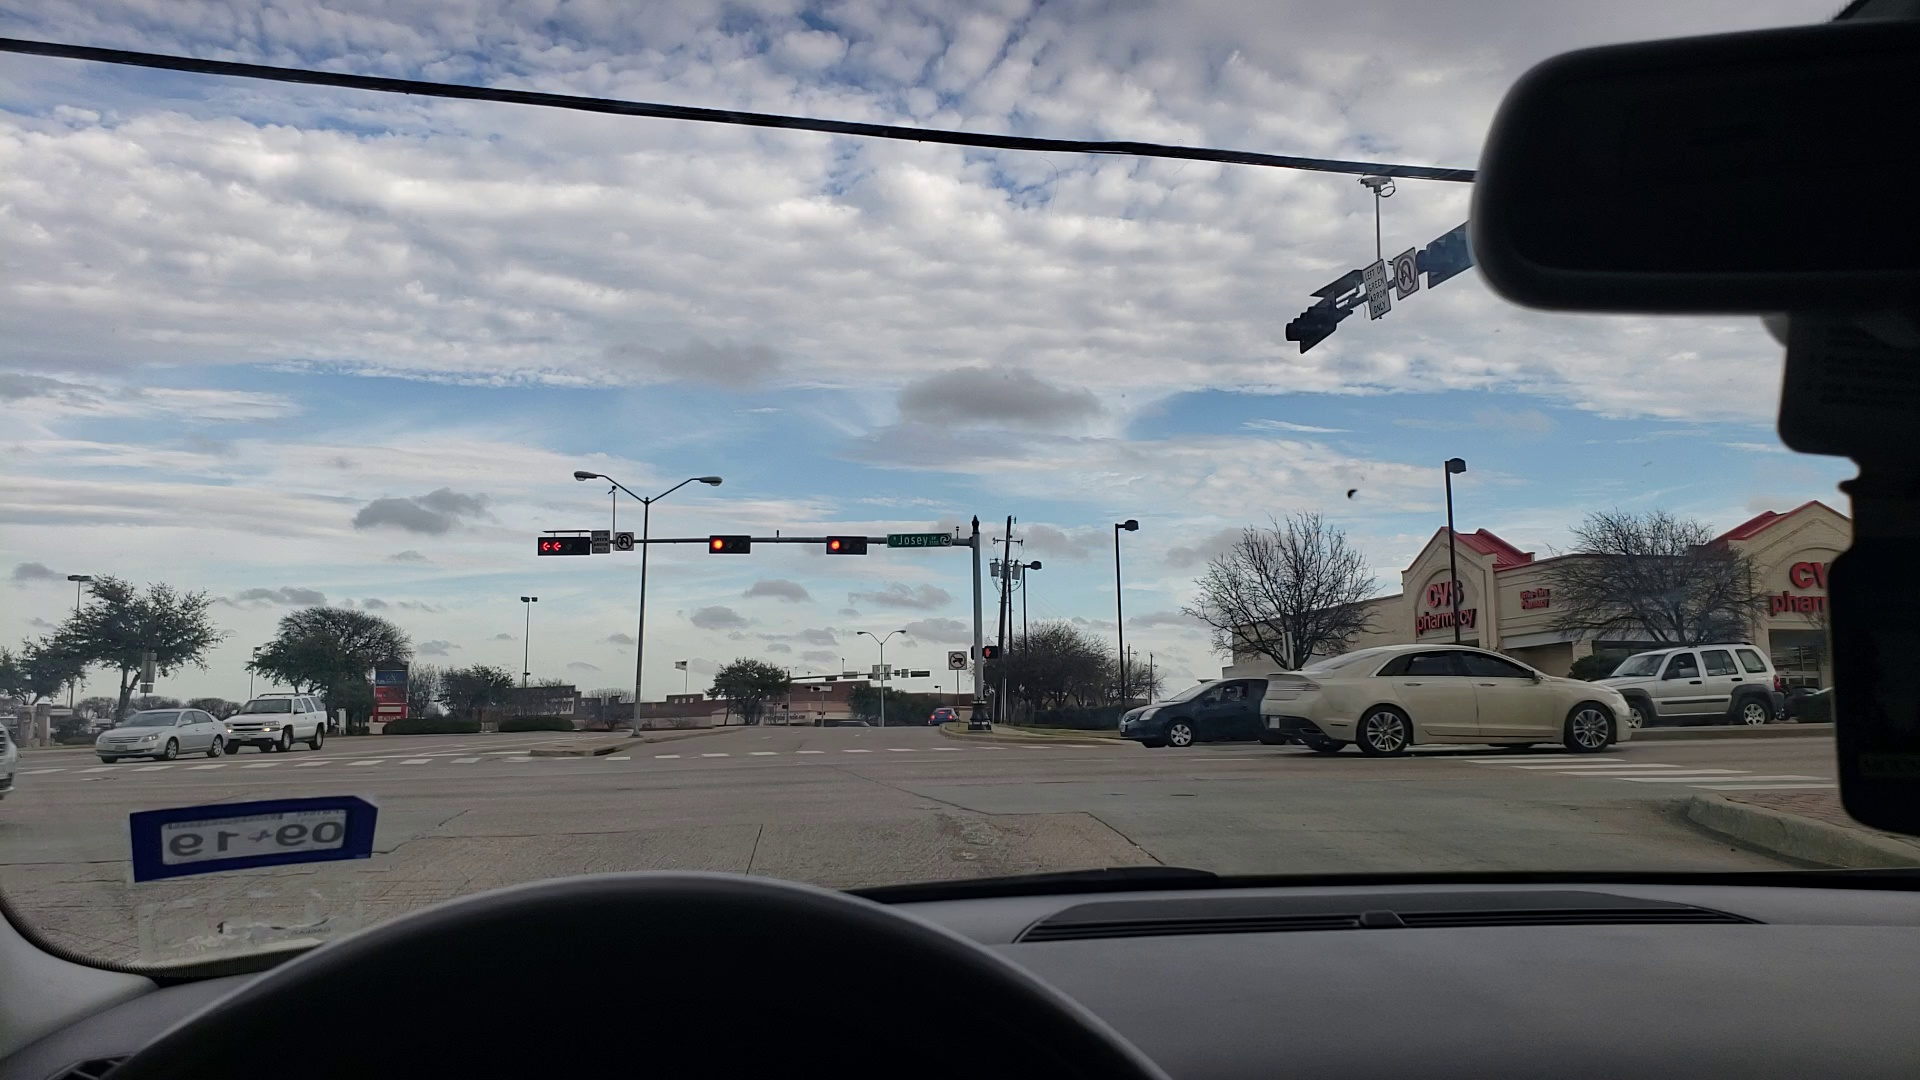car: (1255, 638, 1633, 760), (1593, 632, 1778, 735), (1116, 661, 1282, 748), (220, 686, 339, 754), (98, 702, 237, 760), (924, 707, 959, 728)
traffic light: (827, 535, 874, 556), (711, 535, 756, 554), (541, 535, 585, 553)
